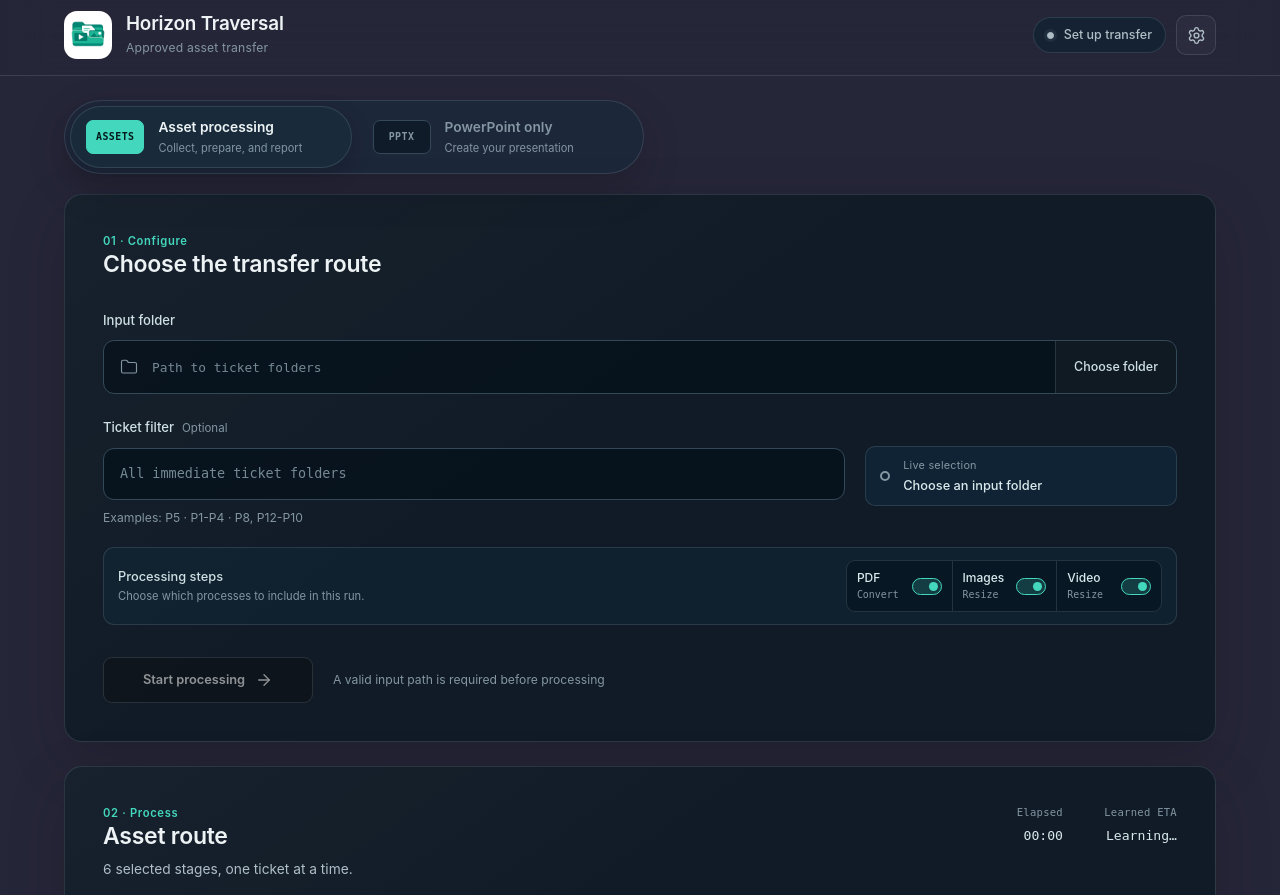
Test: Horizon Traversal workbench › shows batched warning counts on the active stage while a run is live
This screenshot has width=1280, height=895.
In the field labelled "Input folder": x=596, y=367 [138,343,1055,392], type "/tickets"
Wait 360 ms
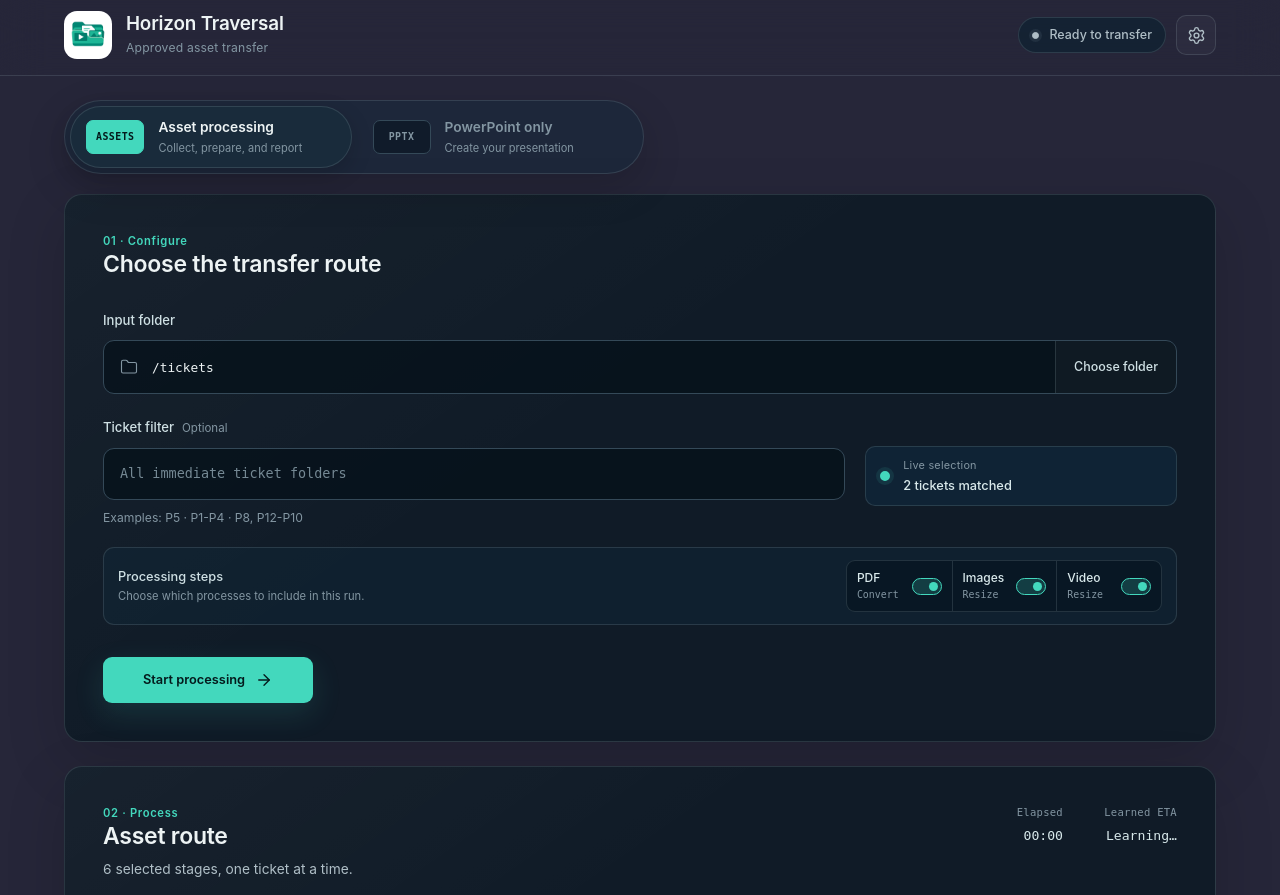
Click the button "Start processing": x=208, y=680 [103,657,313,703]
Wait 20 ms
(page scrolled)
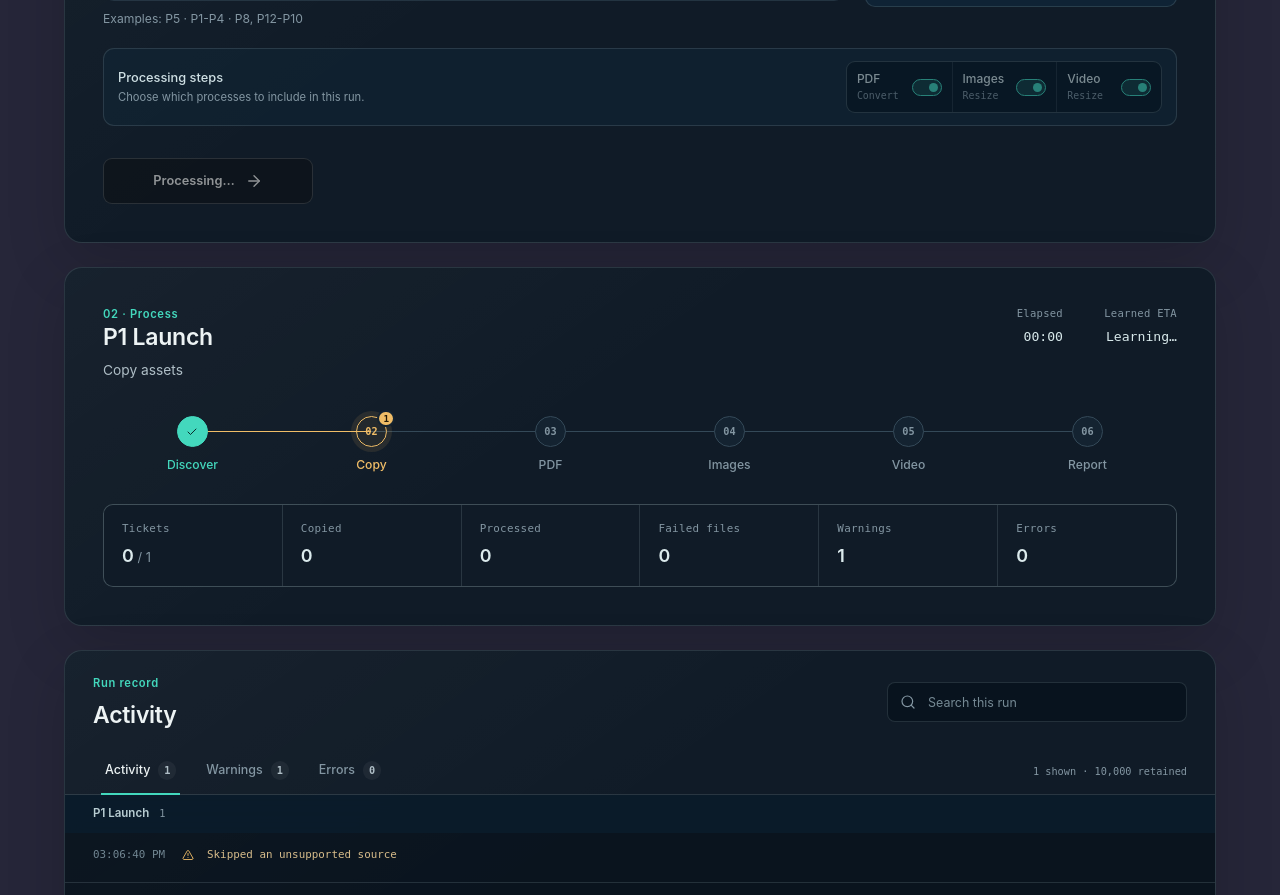
Check: the text "1" below "Failed files" is shown, box [837,545,845,566]
